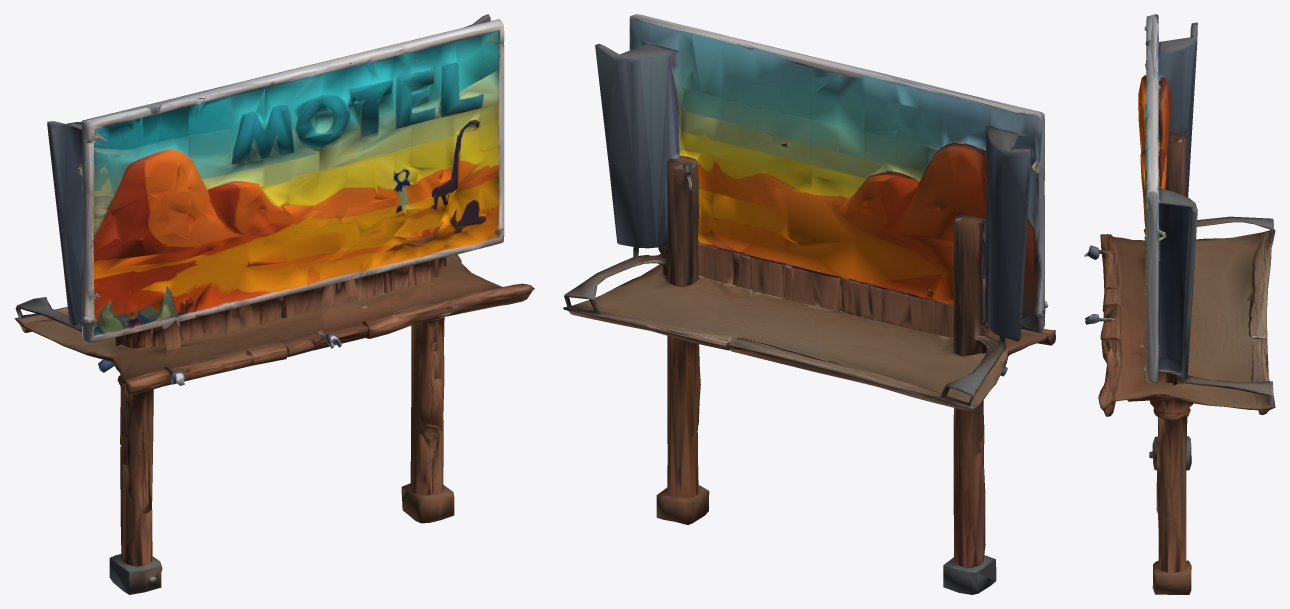
The model's file is prop_mile_billboard.fbx.
The picture shows the model from 3 angles, left to right: view 1: azimuth 30°, elevation 25°; view 2: azimuth 150°, elevation 25°; view 3: azimuth 270°, elevation 25°; orthographic projection. The views are drawn at different scales.
Visible parts, largest first — view 1: prop_mile_billboard_LOD0; view 2: prop_mile_billboard_LOD0; view 3: prop_mile_billboard_LOD0.
Part boxes in pixels (x1,y1,x2,y2): prop_mile_billboard_LOD0: (14,14,534,594); prop_mile_billboard_LOD0: (563,14,1055,594); prop_mile_billboard_LOD0: (1084,14,1275,594).
Size of what is drawn, in the model's own units: 0.9277 by 0.9738 by 0.3978.
